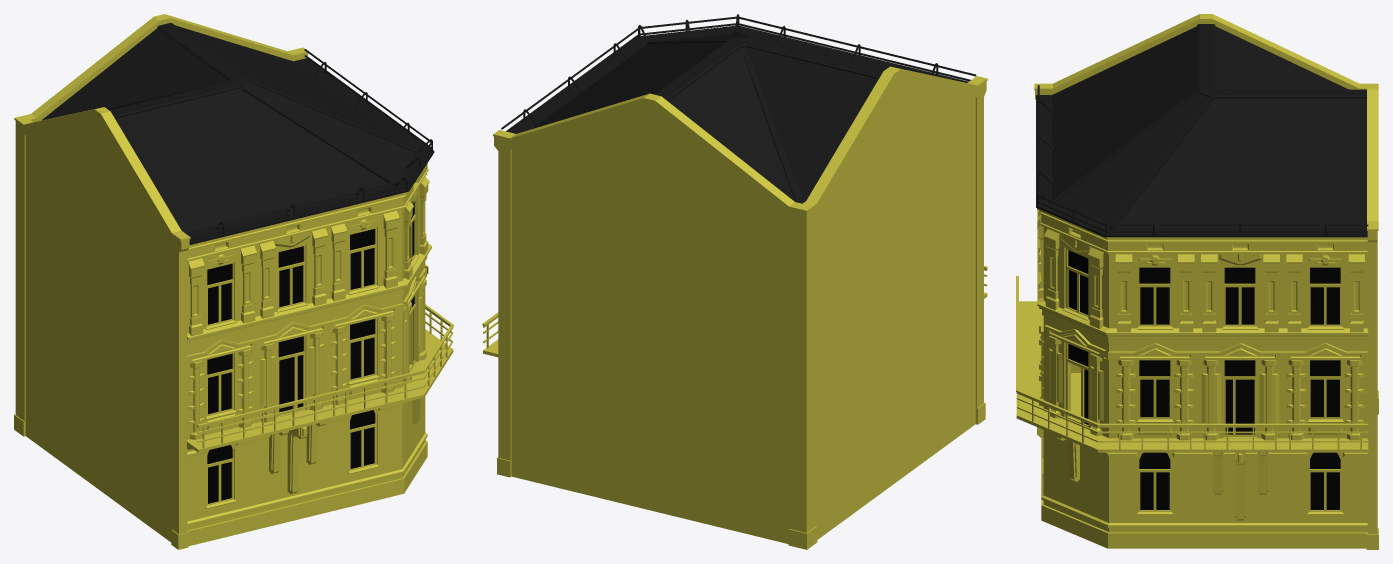
The model's file is SM_second_house.fbx.
3 views of the same model, side by side, from view 1: azimuth 30°, elevation 25°; view 2: azimuth 150°, elevation 25°; view 3: azimuth 270°, elevation 25° (orthographic). The views are drawn at different scales.
Parts seen in each view (by area): view 1: Cylinder_26; view 2: Cylinder_26; view 3: Cylinder_26.
Part boxes in pixels (box(x1,y1,x2,y2)): Cylinder_26: box(14, 14, 453, 549); Cylinder_26: box(482, 14, 987, 549); Cylinder_26: box(1016, 14, 1378, 549).
Size of the model in its own units: 1065 by 1270 by 1065.
